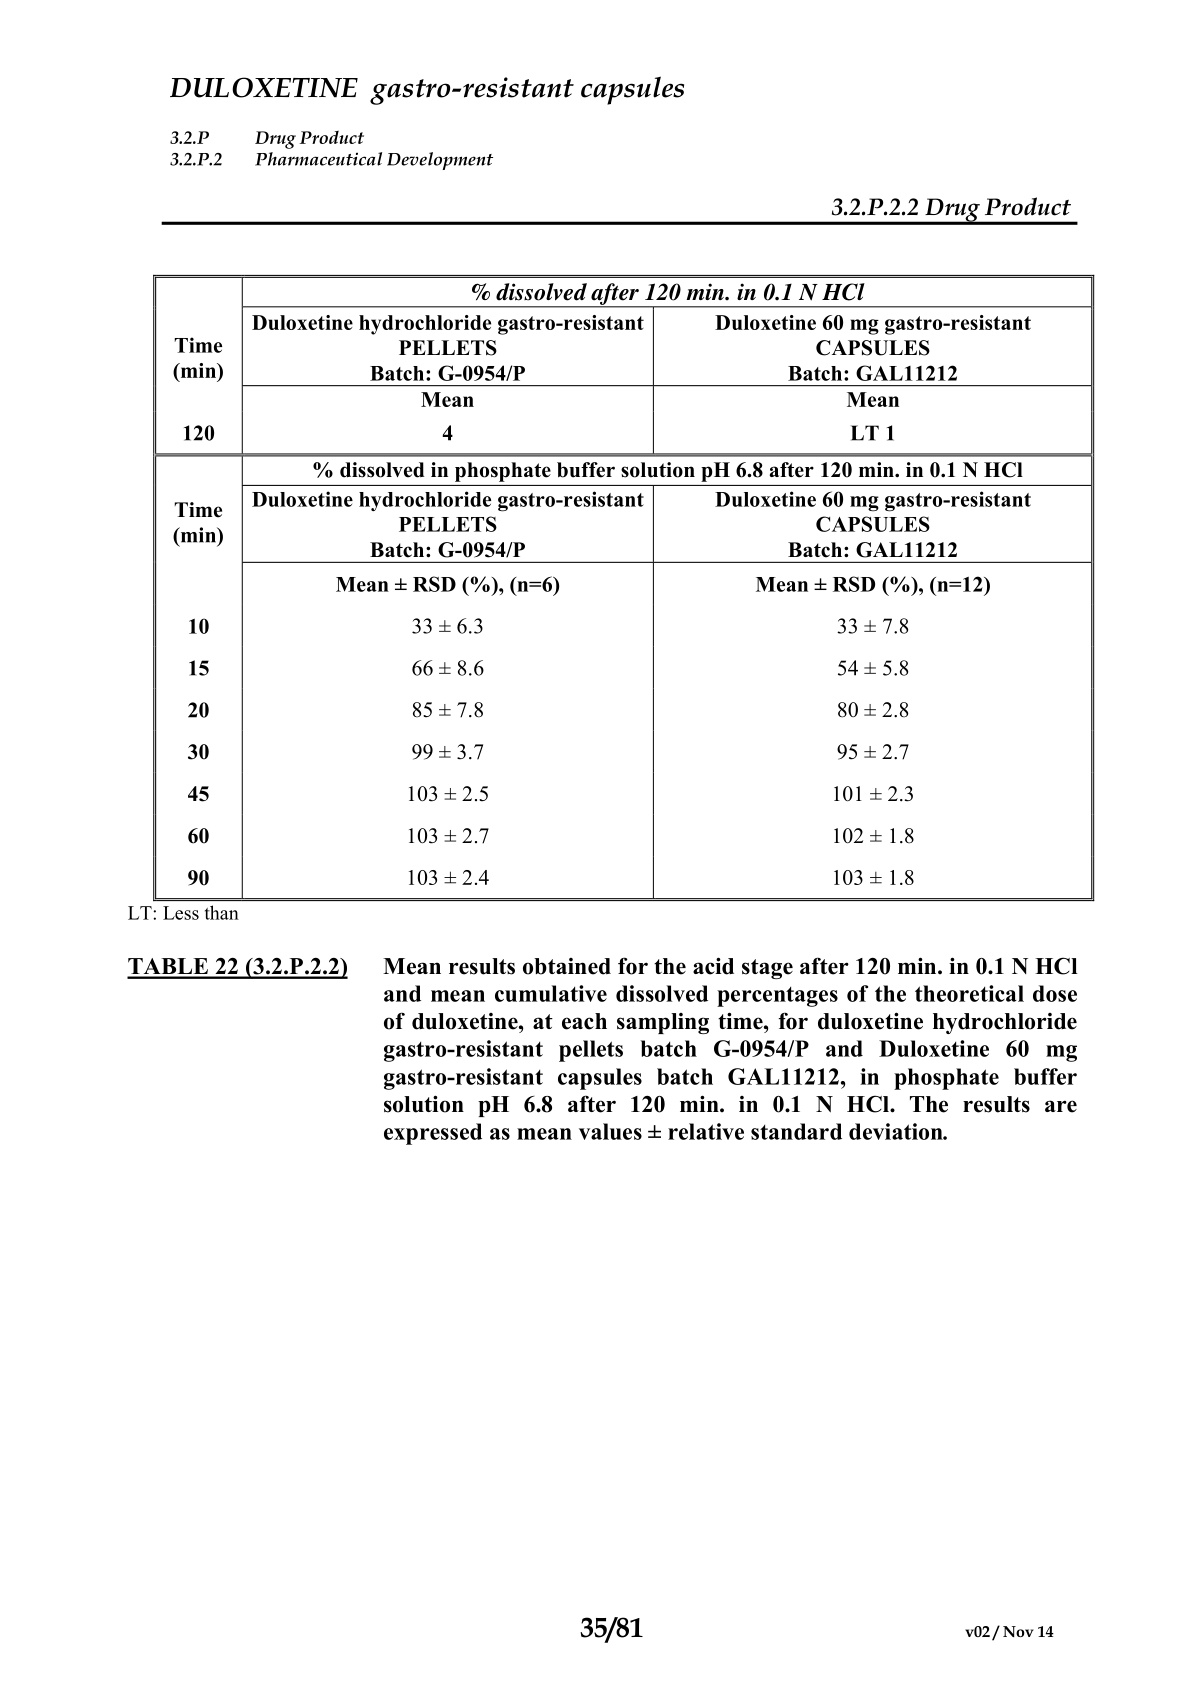merged_cells: (152, 274, 1096, 901)
